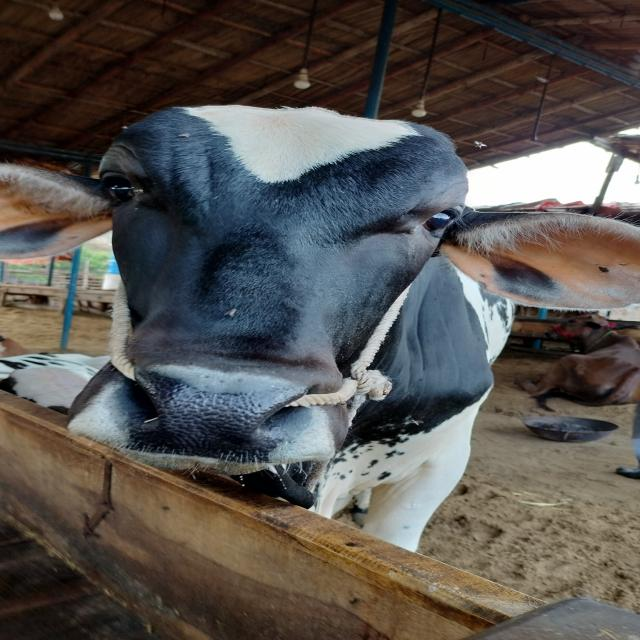muzzles: (100, 356, 321, 472)
